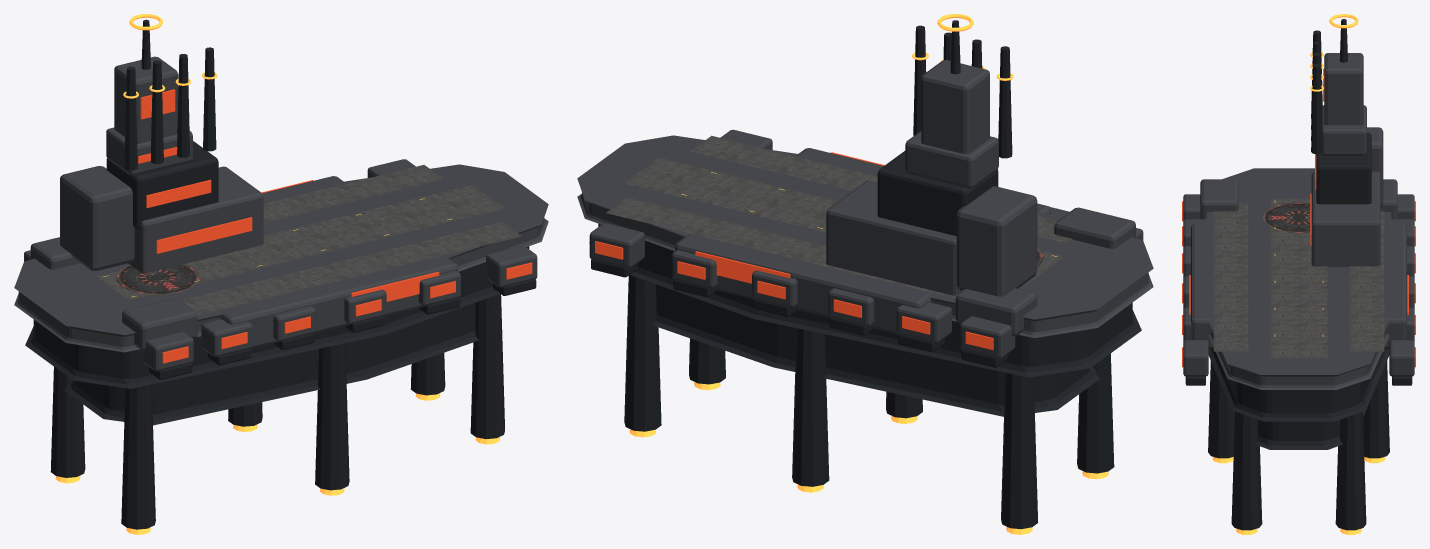
Rendered from inferno-ozone-base-v2-lod1.glb.
3 renders of one model, left to right at view 1: azimuth 30°, elevation 25°; view 2: azimuth 150°, elevation 25°; view 3: azimuth 270°, elevation 25°, orthographic. The views are drawn at different scales.
Parts seen in each view (by area): view 1: inferno_ozone_base_v2__lod1__Inferno orbital armor, inferno_ozone_base_v2__lod1__Inferno structural shadow, inferno_ozone_base_v2__lod1__Inferno tiled flight deck, inferno_ozone_base_v2__lod1__Inferno recessed glazing, inferno_ozone_base_v2__lod1__Inferno tactical mesh overlay, inferno_ozone_base_v2__lod1__Inferno emissive guidance; view 2: inferno_ozone_base_v2__lod1__Inferno orbital armor, inferno_ozone_base_v2__lod1__Inferno structural shadow, inferno_ozone_base_v2__lod1__Inferno tiled flight deck, inferno_ozone_base_v2__lod1__Inferno recessed glazing, inferno_ozone_base_v2__lod1__Inferno emissive guidance; view 3: inferno_ozone_base_v2__lod1__Inferno orbital armor, inferno_ozone_base_v2__lod1__Inferno structural shadow, inferno_ozone_base_v2__lod1__Inferno tiled flight deck, inferno_ozone_base_v2__lod1__Inferno tactical mesh overlay, inferno_ozone_base_v2__lod1__Inferno recessed glazing, inferno_ozone_base_v2__lod1__Inferno emissive guidance.
Part boxes in pixels (x1,y1,x2,y2): inferno_ozone_base_v2__lod1__Inferno orbital armor: [14, 56, 548, 371]; inferno_ozone_base_v2__lod1__Inferno structural shadow: [25, 19, 536, 529]; inferno_ozone_base_v2__lod1__Inferno tiled flight deck: [96, 165, 521, 315]; inferno_ozone_base_v2__lod1__Inferno recessed glazing: [138, 89, 532, 363]; inferno_ozone_base_v2__lod1__Inferno tactical mesh overlay: [116, 264, 199, 294]; inferno_ozone_base_v2__lod1__Inferno emissive guidance: [55, 14, 500, 534]; inferno_ozone_base_v2__lod1__Inferno orbital armor: [577, 60, 1153, 358]; inferno_ozone_base_v2__lod1__Inferno structural shadow: [589, 20, 1141, 529]; inferno_ozone_base_v2__lod1__Inferno tiled flight deck: [606, 135, 1071, 298]; inferno_ozone_base_v2__lod1__Inferno recessed glazing: [595, 152, 993, 349]; inferno_ozone_base_v2__lod1__Inferno emissive guidance: [629, 14, 1108, 534]; inferno_ozone_base_v2__lod1__Inferno orbital armor: [1183, 53, 1414, 389]; inferno_ozone_base_v2__lod1__Inferno structural shadow: [1185, 19, 1412, 530]; inferno_ozone_base_v2__lod1__Inferno tiled flight deck: [1213, 198, 1384, 358]; inferno_ozone_base_v2__lod1__Inferno tactical mesh overlay: [1263, 202, 1310, 232]; inferno_ozone_base_v2__lod1__Inferno recessed glazing: [1182, 68, 1415, 367]; inferno_ozone_base_v2__lod1__Inferno emissive guidance: [1212, 14, 1385, 534].
Size of the model in its own units: 892 by 784 by 426.
6 materials, 2 textured.
